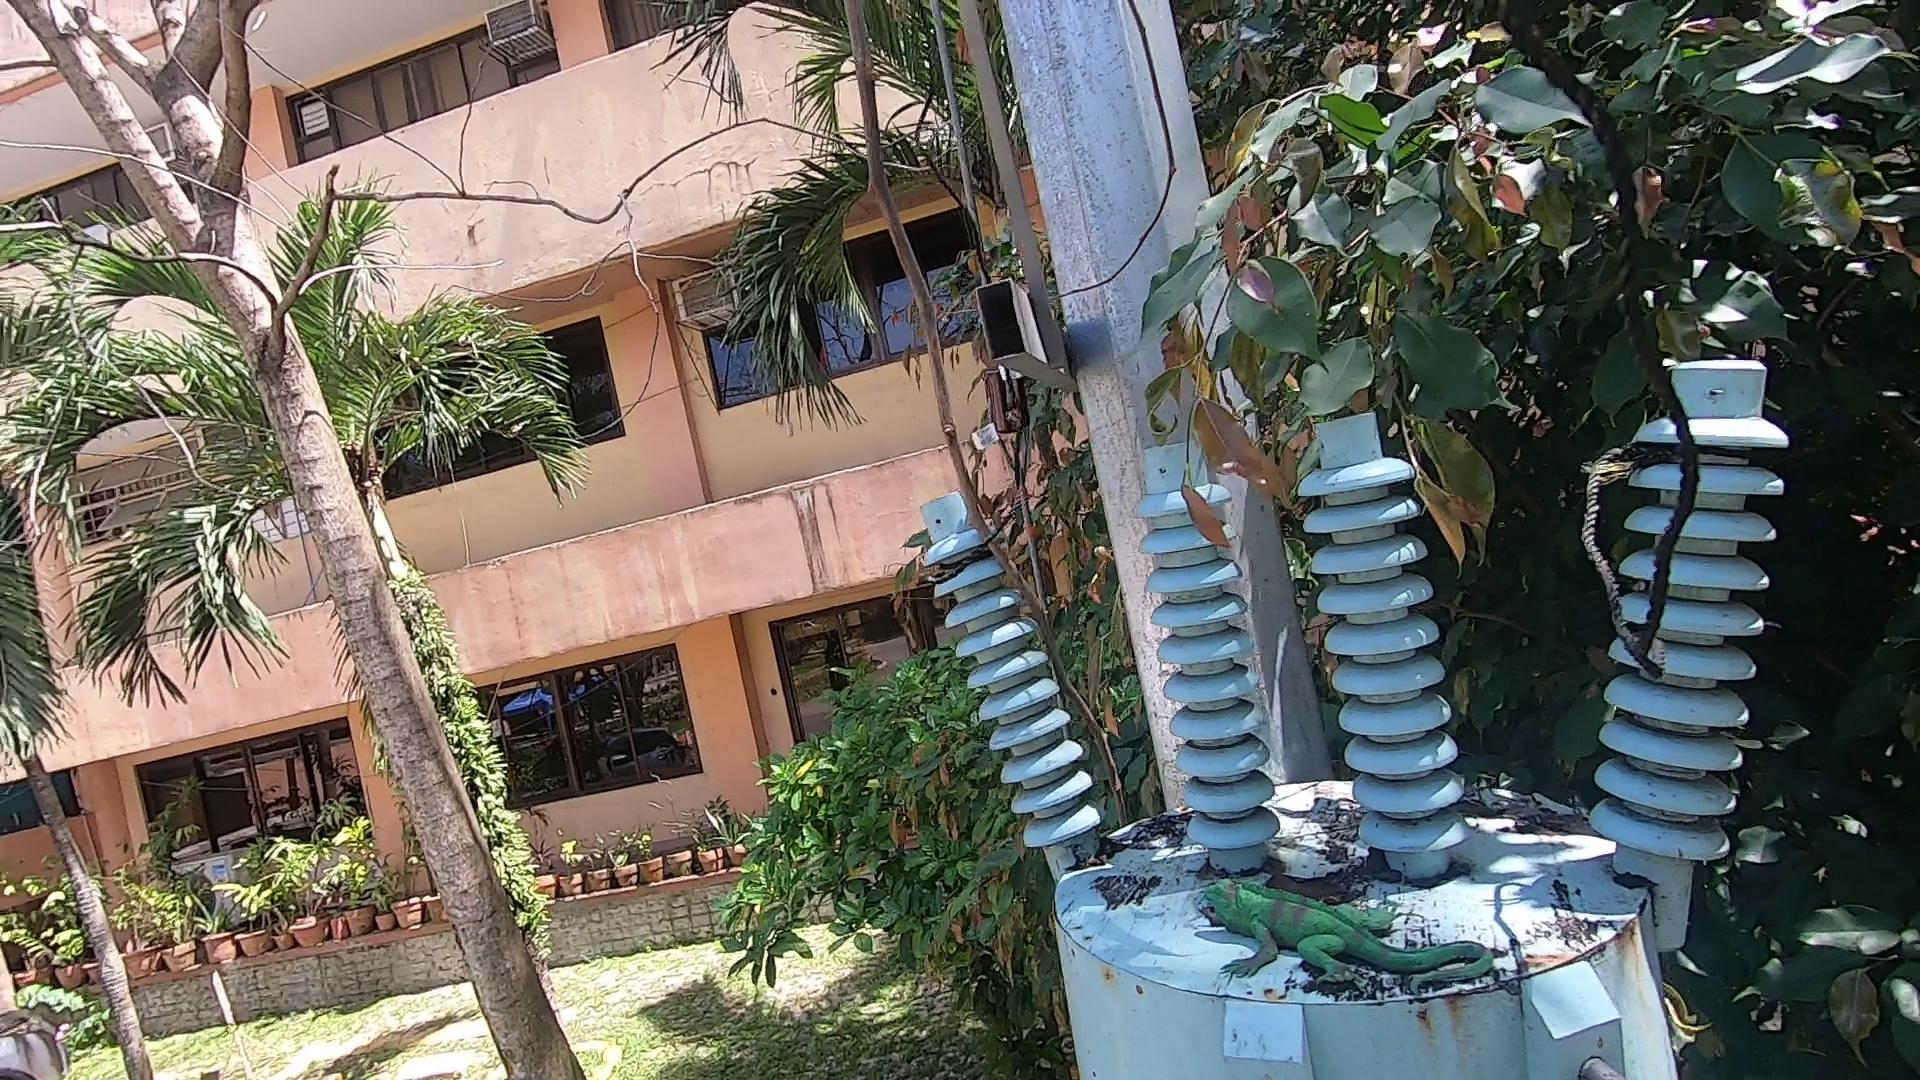branch with leaves: (1131, 251, 1545, 591)
leaf: (1469, 796, 1600, 848), (1270, 862, 1402, 902), (1069, 835, 1135, 878)
tree branch: (811, 7, 1153, 829)
